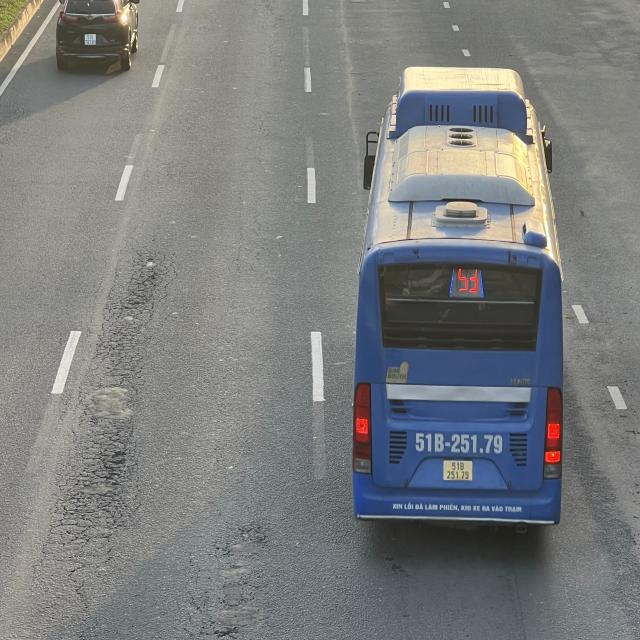coach: (354, 71, 562, 534)
